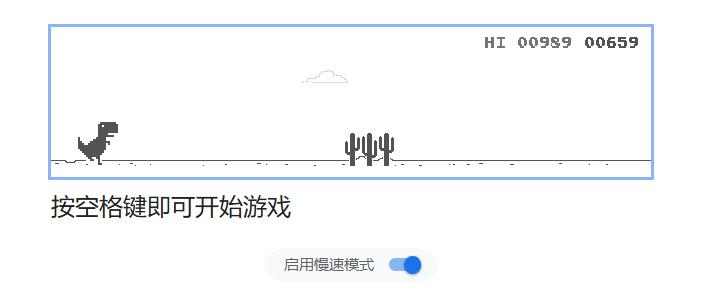cactus: (343, 132, 394, 167)
dino: (76, 120, 119, 165)
